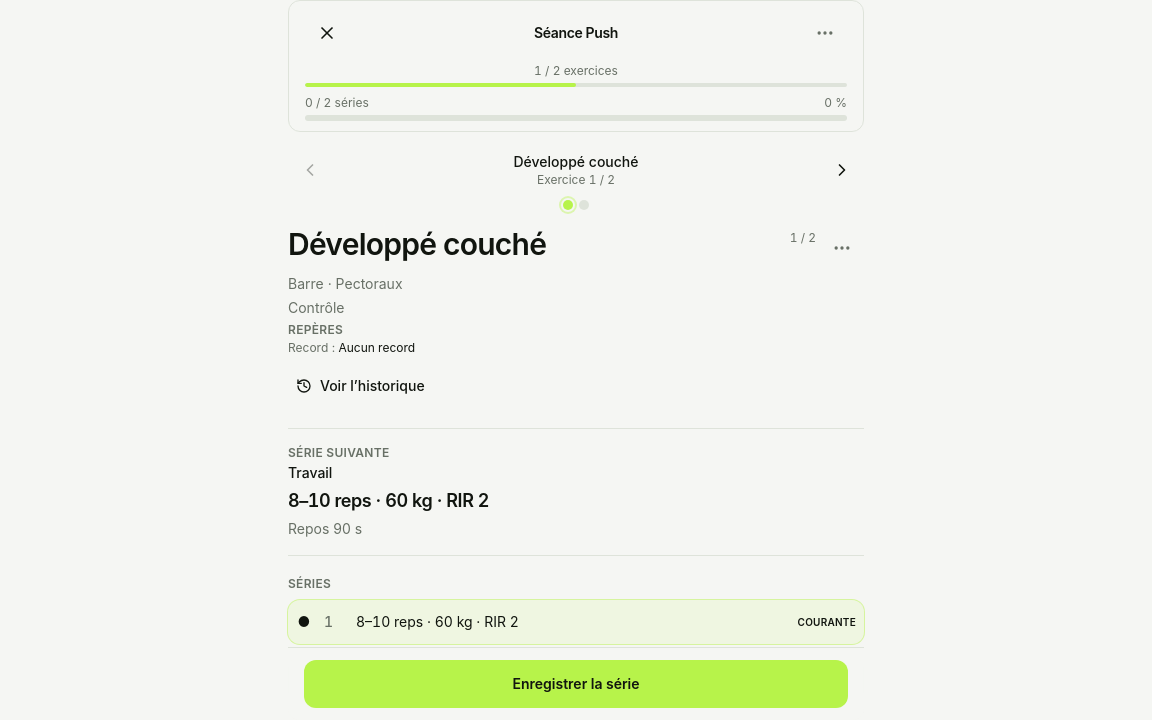
ActiveWorkoutPage › navigue entre exercices et démarre la minuterie après enregistrement
The width and height of the screenshot is (1152, 720).
Expected: the heading "Développé couché" is shown, [288,226,546,262]
What coordinates should you click on to do the following:
click the button named "Aller à l'exercice suivant"
I would click on:
 (842, 170)
Its box is [820,148,864,192].
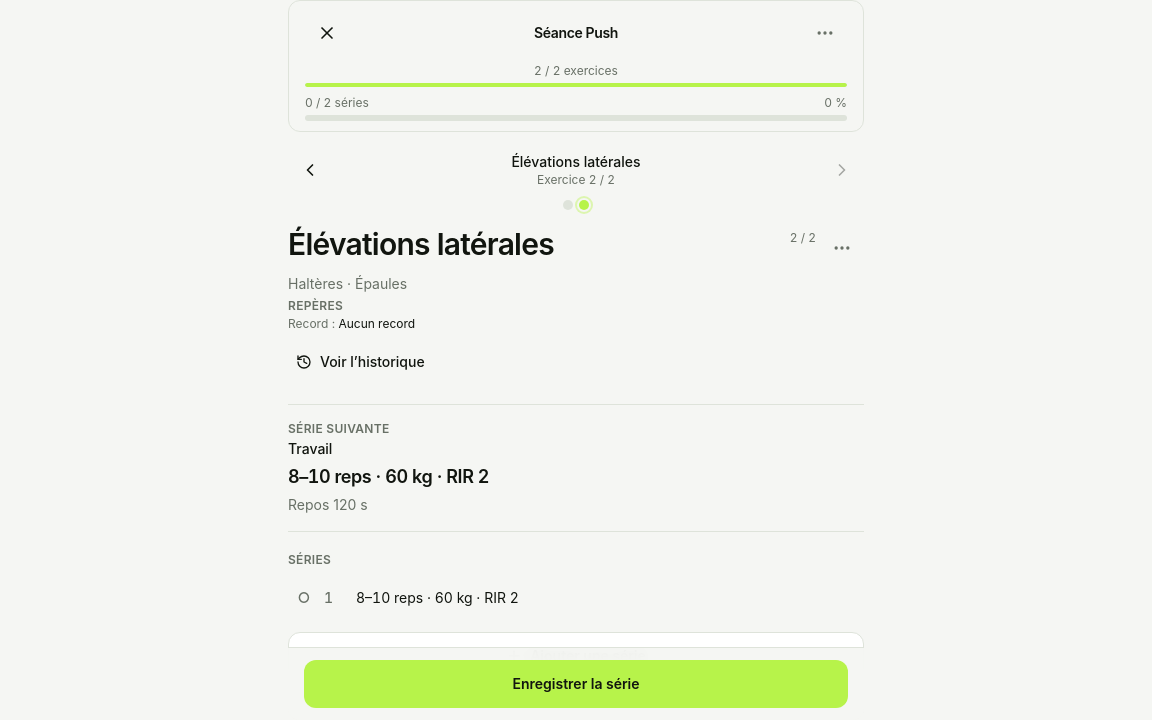
Now the heading "Élévations latérales" is shown, box [288,226,554,262]
What coordinates should you click on to do the following:
click the button named "Aller à l'exercice précédent"
I would click on:
 (310, 170)
Its box is [288,148,332,192].
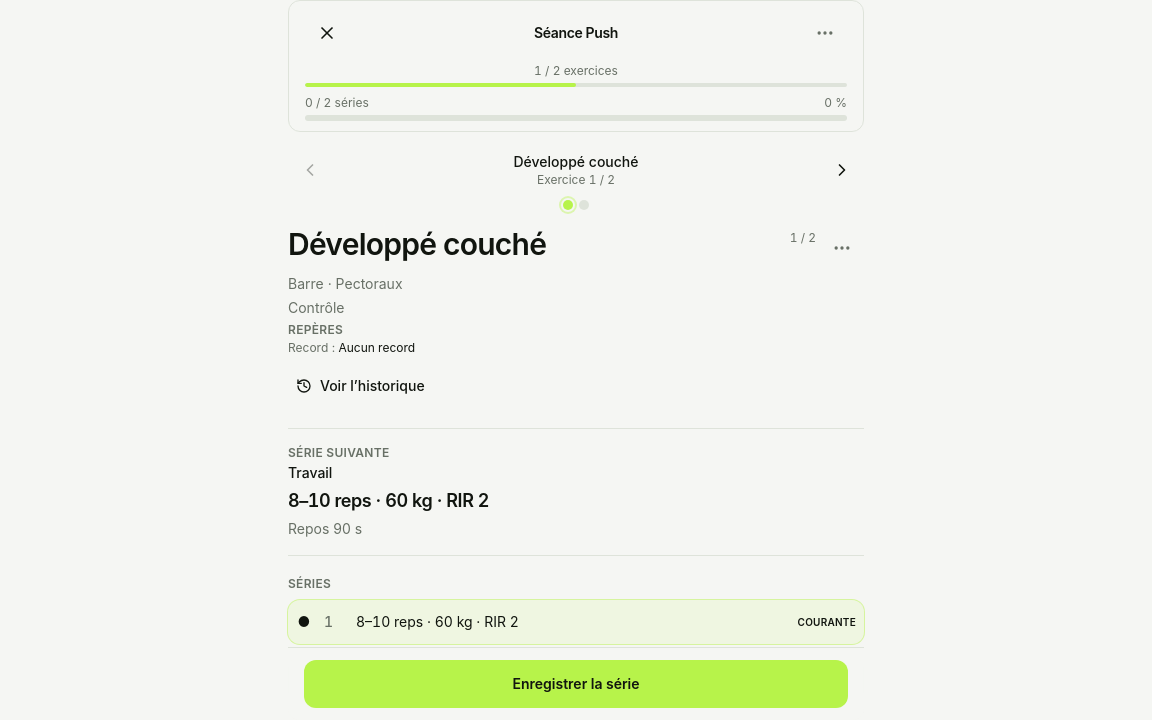
Now the heading "Développé couché" is shown, box [288,226,546,262]
What coordinates should you click on to do the following:
click the button "Enregistrer la série"
I would click on:
 (576, 684)
Its box is [304,660,848,708].
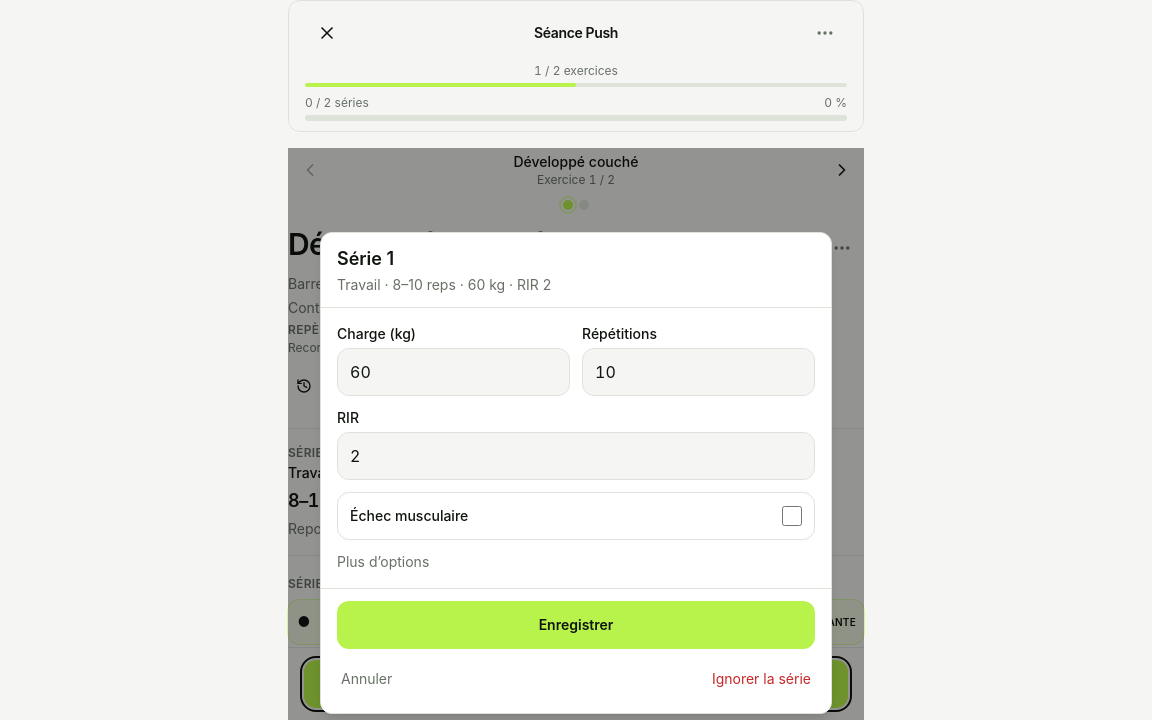
What coordinates should you click on to do the following:
click the button "Enregistrer"
I would click on:
 (576, 624)
Its box is [337,600,815,648].
(page scrolled)
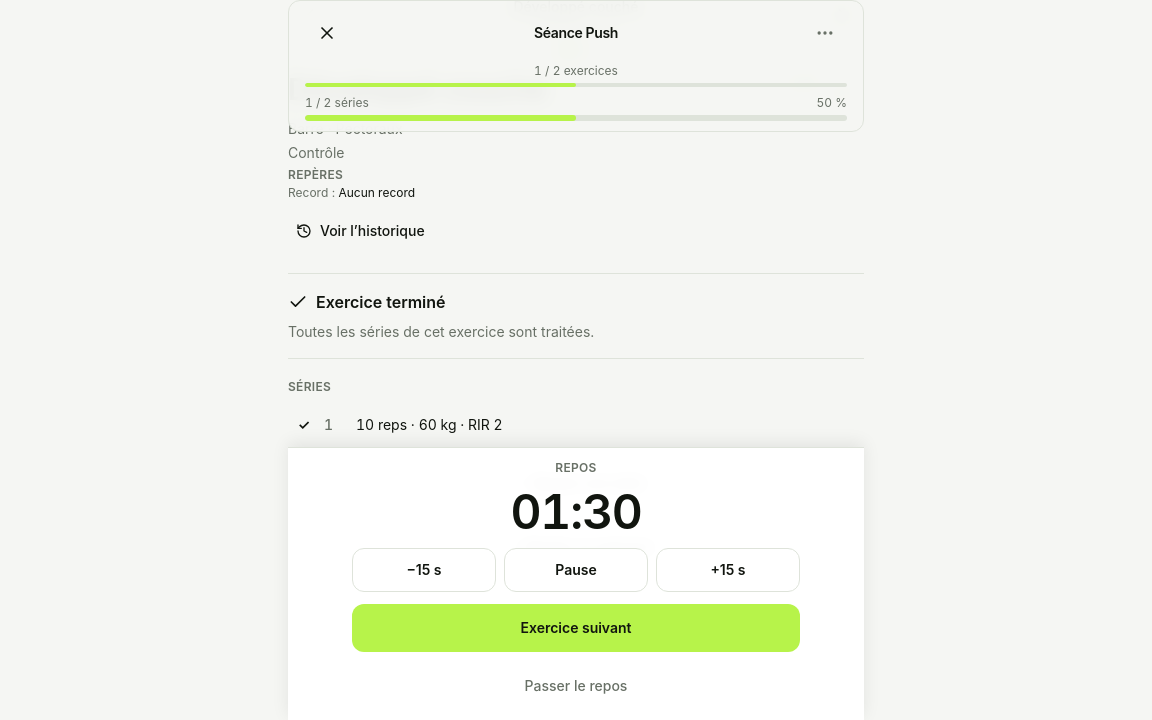
Now the element that starts with "Repos" is shown, box [288,447,864,719]
Now the text "Exercice terminé" is shown, box [288,290,446,314]
Now the button "Exercice suivant" is shown, box [352,604,800,652]
